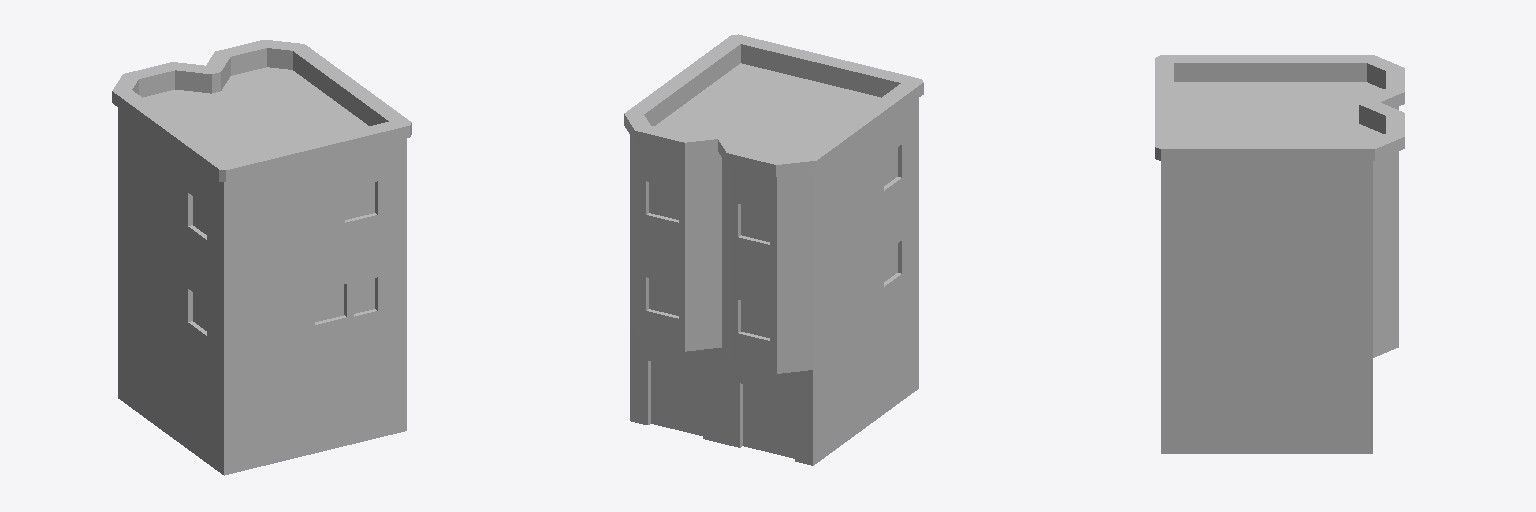
The model's file is variant_11.obj.
3 views of the same model, side by side, from view 1: azimuth 30°, elevation 25°; view 2: azimuth 150°, elevation 25°; view 3: azimuth 270°, elevation 25° (orthographic).
Parts seen in each view (by area): view 1: Building_copy, Window_copy; view 2: Building_copy; view 3: Building_copy.
Part boxes in pixels (x1,y1,x2,y2): Building_copy: (112,40,411,475); Window_copy: (308,275,353,333); Building_copy: (624,34,923,465); Building_copy: (1155,55,1404,453).
Size of the model in its own units: 0.84 by 1.28 by 0.94.